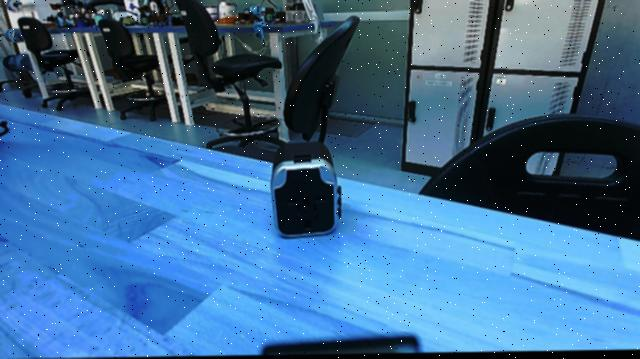adapter: (264, 138, 352, 251)
